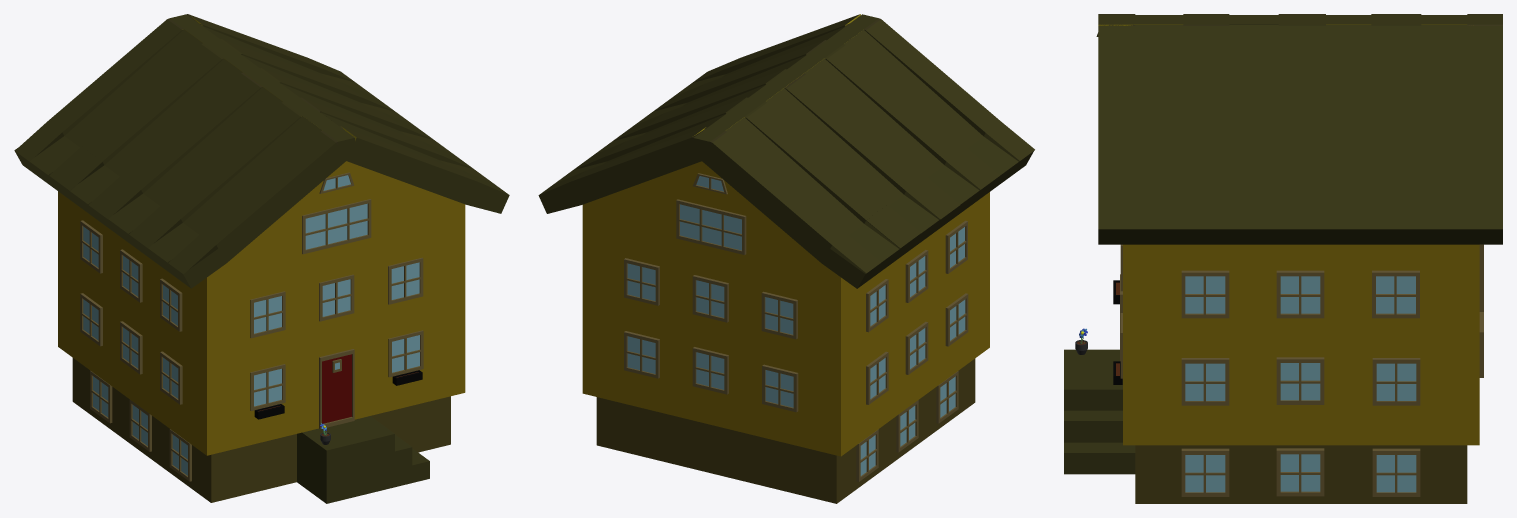
File: house03 (1).fbx
The picture shows the model from 3 angles, left to right: view 1: azimuth 30°, elevation 25°; view 2: azimuth 150°, elevation 25°; view 3: azimuth 270°, elevation 25°; orthographic projection. The views are drawn at different scales.
Parts seen in each view (by area): view 1: Cube, Plane.007, Plane.005, Cube.017, Cube.001, Plane.003, Plane.004, Plane.001, Plane.002, Plane, Cube.101, Cube.014 (+4 smaller); view 2: Cube, Plane.026, Cube.075, Plane.013, Plane.016, Plane.024, Plane.014, Plane.015, Plane.017, Cube.048, Cube.036, Cube.045 (+3 smaller); view 3: Cube, Plane.030, Plane.009, Plane.029, Plane.008, Plane.023, Plane.010, Plane.011, Plane.012, Plane.031, Cube.089, Cube.027 (+7 smaller).
Boxes of the visible parts, x1,y1,x2,y2 form: Cube: [14, 14, 509, 503]; Plane.007: [322, 354, 351, 423]; Plane.005: [305, 203, 367, 249]; Cube.017: [302, 199, 371, 254]; Cube.001: [319, 349, 354, 429]; Plane.003: [322, 279, 350, 316]; Plane.004: [391, 262, 419, 299]; Plane.001: [254, 368, 281, 406]; Plane.002: [254, 296, 281, 333]; Plane: [392, 335, 419, 372]; Cube.101: [254, 370, 422, 419]; Cube.014: [388, 257, 423, 304]; Cube: [538, 14, 1034, 503]; Plane.026: [680, 204, 741, 250]; Cube.075: [676, 199, 746, 254]; Plane.013: [765, 370, 793, 407]; Plane.016: [696, 280, 724, 317]; Plane.024: [696, 352, 724, 389]; Plane.014: [627, 336, 655, 373]; Plane.015: [627, 263, 655, 301]; Plane.017: [765, 297, 793, 334]; Cube.048: [761, 291, 797, 339]; Cube.036: [762, 364, 798, 412]; Cube.045: [692, 275, 728, 322]; Cube: [1064, 14, 1502, 503]; Plane.030: [1185, 455, 1225, 492]; Plane.009: [1185, 363, 1225, 400]; Plane.029: [1376, 455, 1416, 492]; Plane.008: [1376, 363, 1416, 400]; Plane.023: [1280, 363, 1320, 400]; Plane.010: [1185, 276, 1225, 313]; Plane.011: [1280, 276, 1320, 313]; Plane.012: [1376, 276, 1415, 313]; Plane.031: [1280, 454, 1320, 491]; Cube.089: [1276, 448, 1324, 496]; Cube.027: [1181, 270, 1229, 318].
Size of the model in its own units: 1899 by 1915 by 1840.
